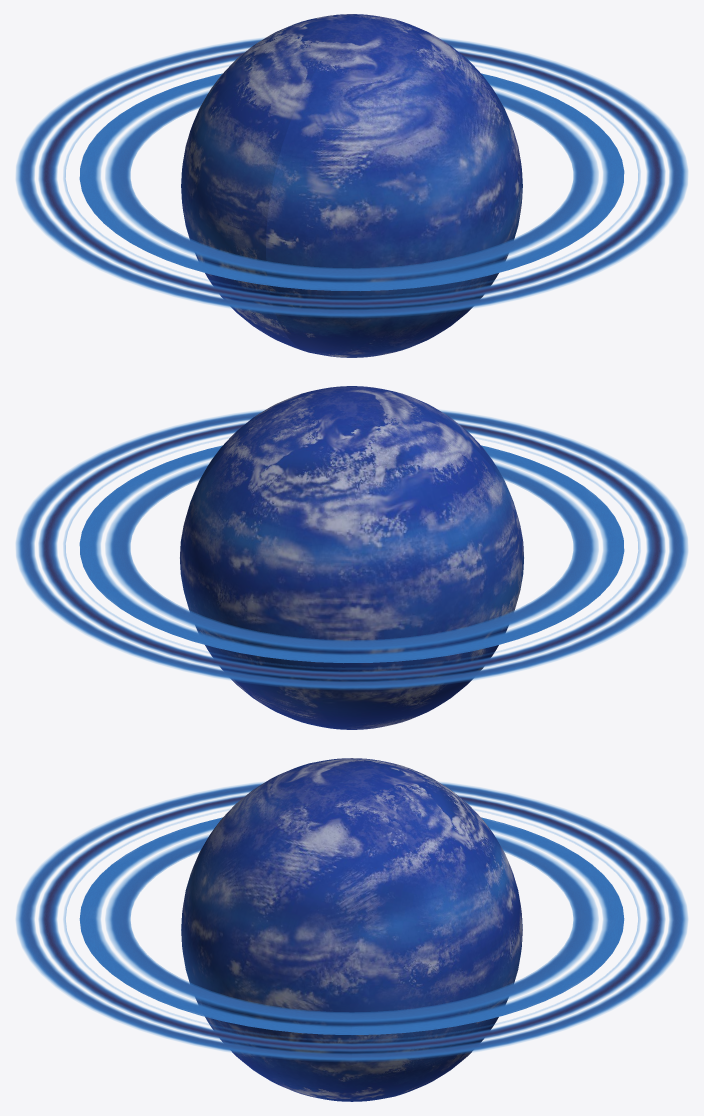
The model's file is neptuno.glb.
3 views of the same model, one above another, from view 1: azimuth 30°, elevation 25°; view 2: azimuth 150°, elevation 25°; view 3: azimuth 270°, elevation 25° (orthographic).
Parts seen in each view (by area): view 1: New, Tube001; view 2: New, Tube001; view 3: New, Tube001.
Boxes of the visible parts, <box> form: New: <box>181,14,522,357</box>; Tube001: <box>16,38,687,317</box>; New: <box>180,386,523,729</box>; Tube001: <box>16,410,687,689</box>; New: <box>181,758,522,1101</box>; Tube001: <box>16,782,687,1061</box>.
Bounding box in the file's own units: 2.38 × 1.21 × 2.38.
2 materials, 2 textured.
